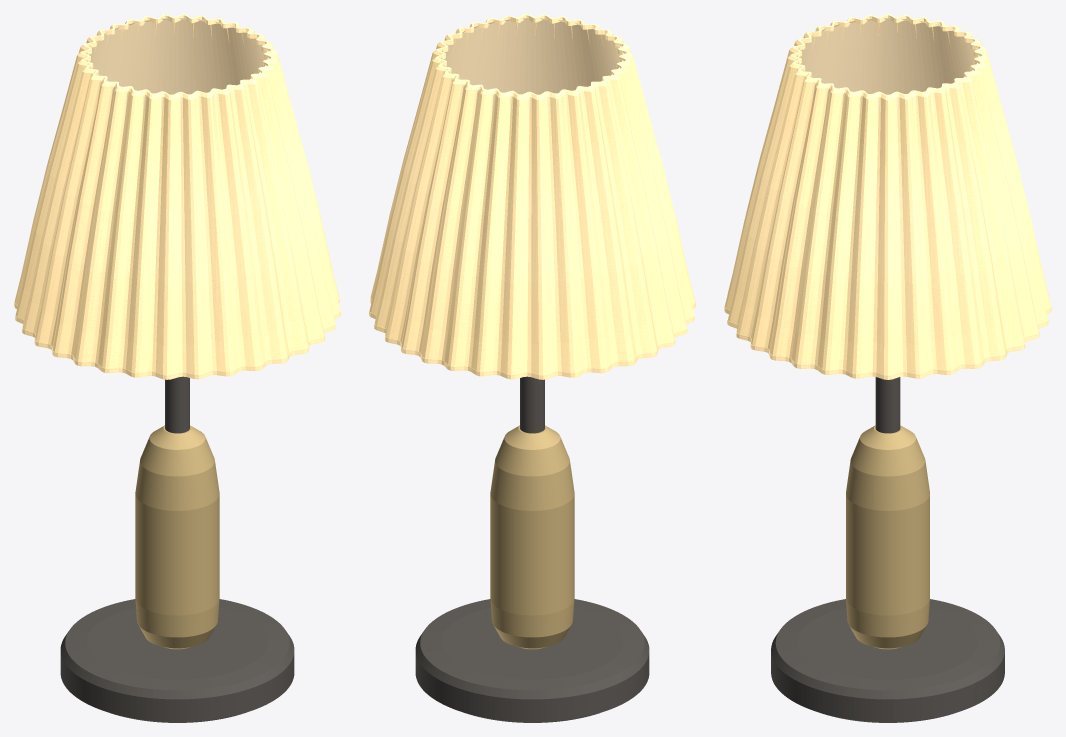
File: emilia.glb
3 views of the same model, side by side, from view 1: azimuth 30°, elevation 25°; view 2: azimuth 150°, elevation 25°; view 3: azimuth 270°, elevation 25° (orthographic).
Visible parts, largest first — view 1: Pantalla plisada marfil, Base negra, Cuerpo dorado ovalado, Forro interior, Ribete superior, Ribete inferior, Varilla negra; view 2: Pantalla plisada marfil, Base negra, Cuerpo dorado ovalado, Forro interior, Ribete superior, Ribete inferior, Varilla negra; view 3: Pantalla plisada marfil, Base negra, Cuerpo dorado ovalado, Forro interior, Ribete superior, Ribete inferior, Varilla negra.
Part boxes in pixels (x1,y1,x2,y2): Pantalla plisada marfil: (14, 19, 340, 375); Base negra: (60, 599, 294, 722); Cuerpo dorado ovalado: (135, 425, 219, 649); Forro interior: (86, 18, 268, 119); Ribete superior: (80, 14, 274, 95); Ribete inferior: (14, 297, 340, 379); Varilla negra: (165, 376, 189, 433); Pantalla plisada marfil: (369, 19, 695, 375); Base negra: (415, 599, 649, 722); Cuerpo dorado ovalado: (490, 425, 574, 649); Forro interior: (441, 18, 623, 119); Ribete superior: (435, 14, 629, 95); Ribete inferior: (369, 297, 695, 379); Varilla negra: (520, 376, 544, 433); Pantalla plisada marfil: (724, 20, 1051, 375); Base negra: (771, 599, 1004, 722); Cuerpo dorado ovalado: (846, 425, 929, 649); Forro interior: (796, 18, 979, 118); Ribete superior: (791, 14, 984, 96); Ribete inferior: (724, 293, 1051, 379); Varilla negra: (875, 377, 900, 433).
Bounding box in the file's own units: 0.21 × 0.44 × 0.21.
Materials: 6 (1 with a texture image).
